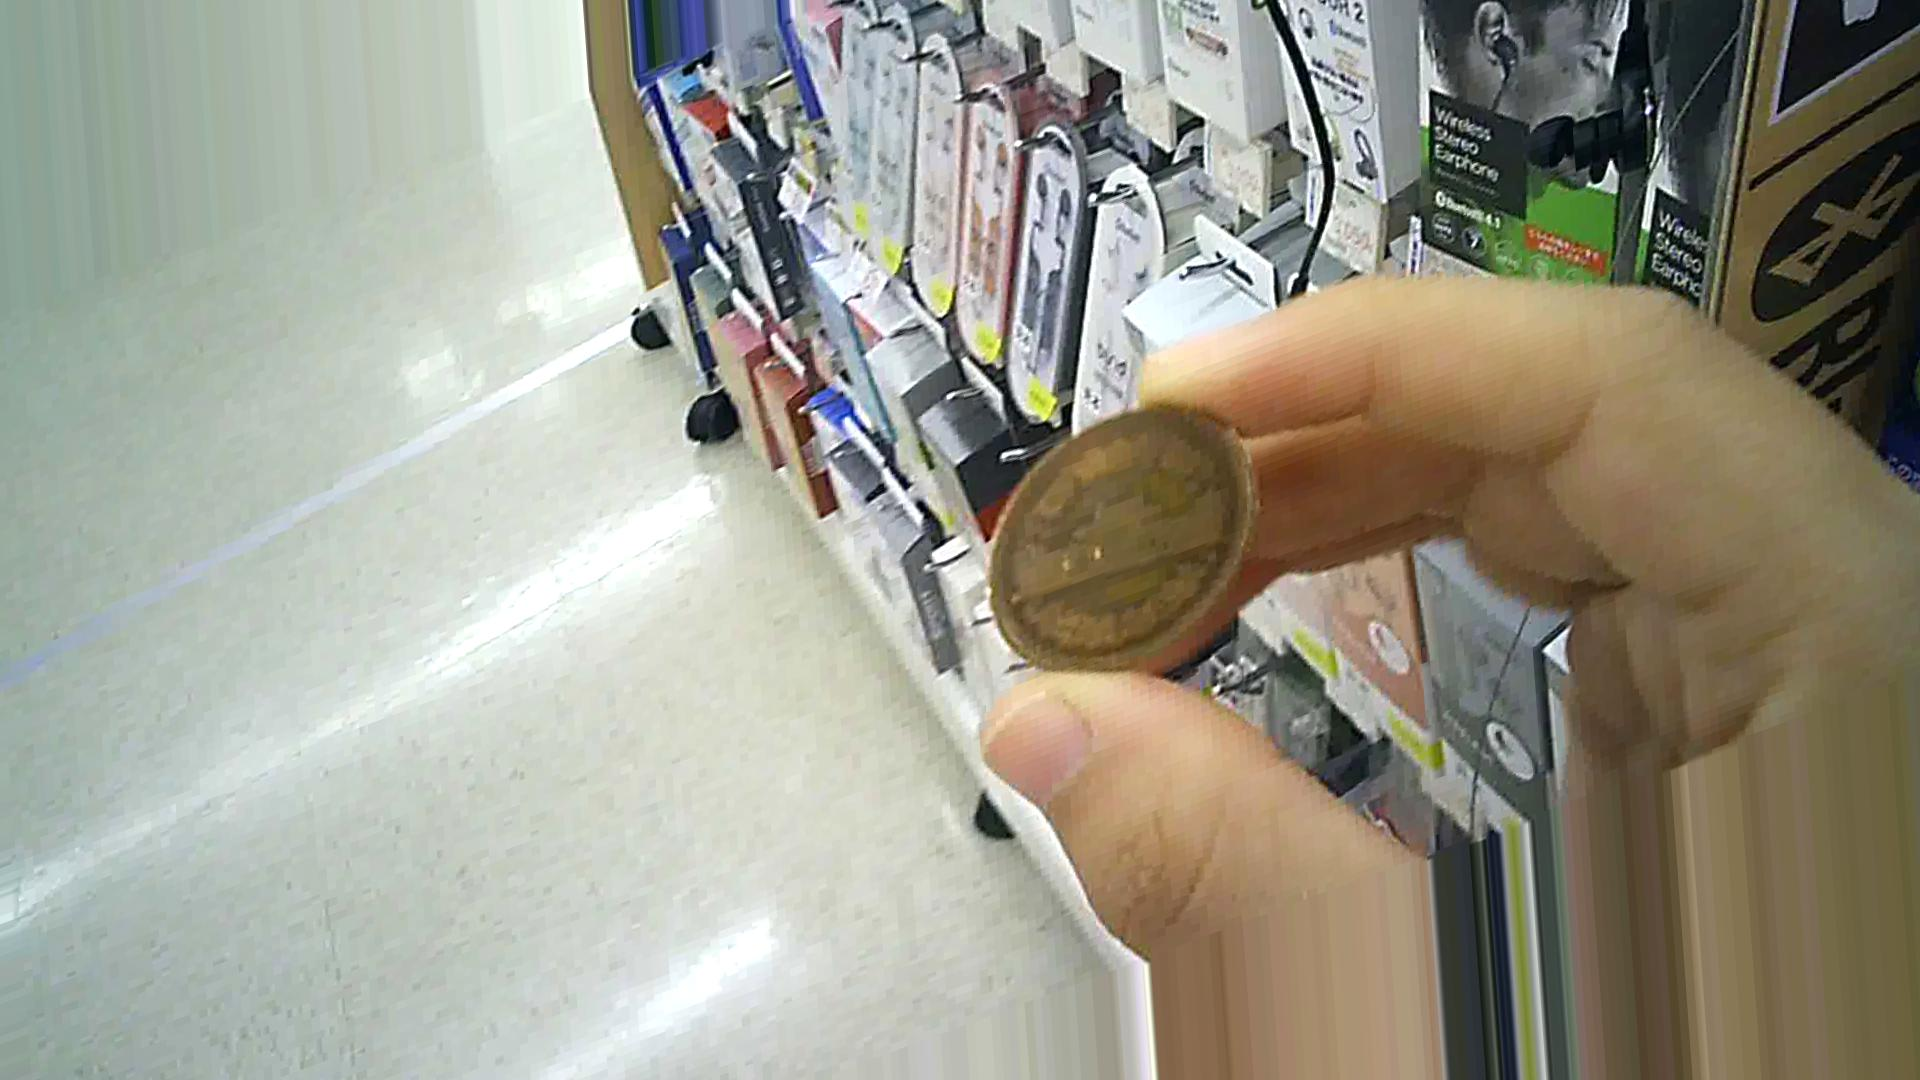10 Yen: (990, 389, 1255, 709)
